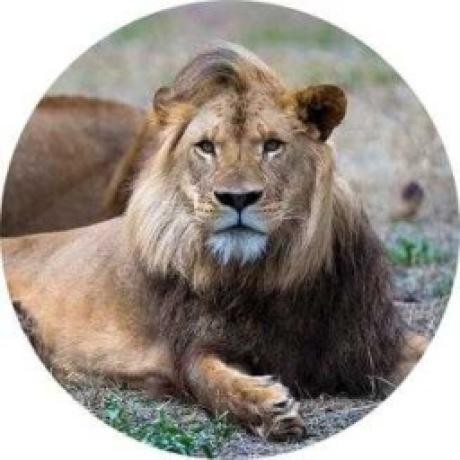Lion: (0, 37, 395, 442)
